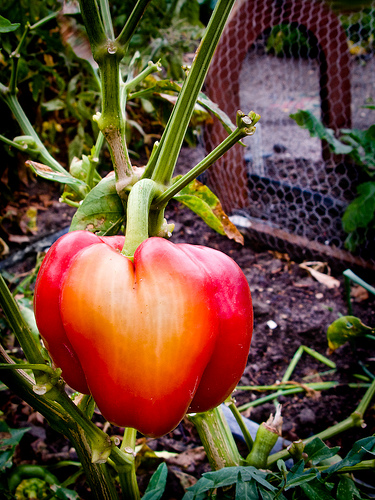capsicum: (33, 228, 255, 440)
